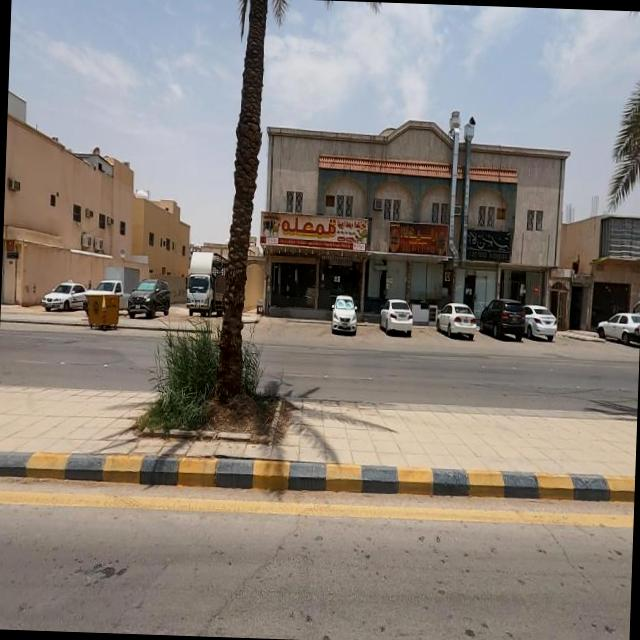debris: (365, 190, 478, 288)
